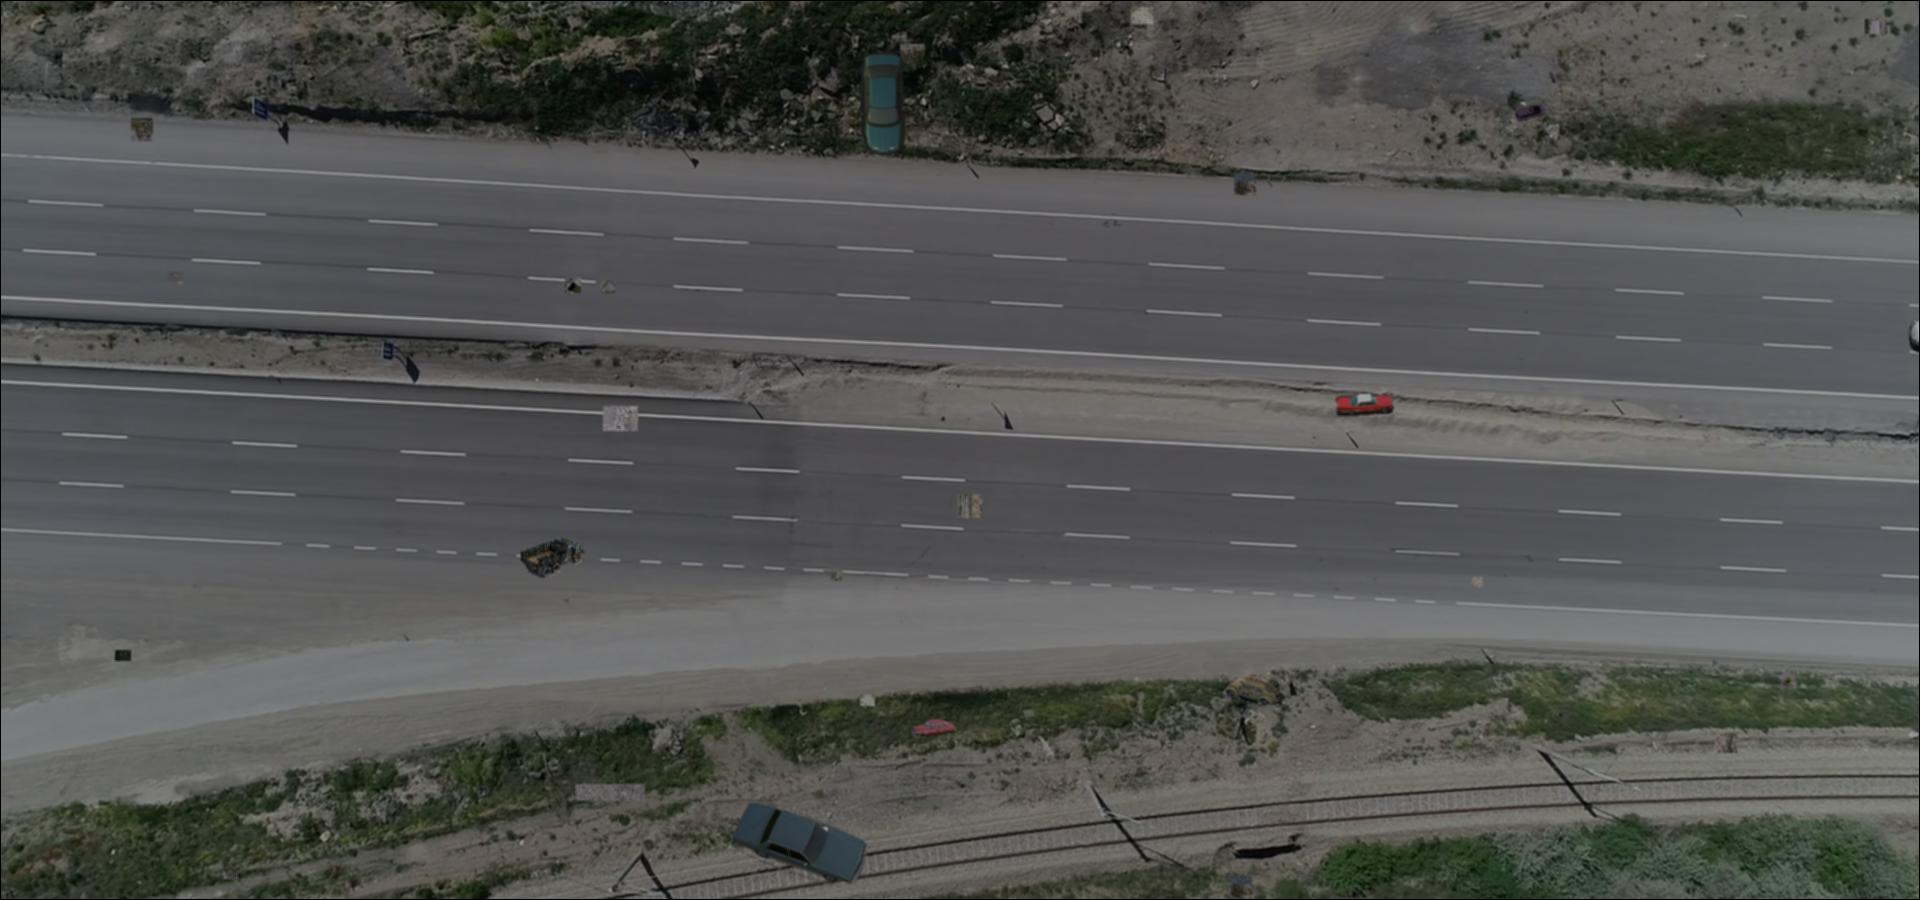arac: (727, 803, 871, 885), (860, 51, 905, 156), (519, 536, 584, 578), (1224, 675, 1283, 707), (1335, 393, 1393, 416), (911, 719, 958, 740), (1513, 105, 1547, 122)
